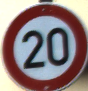20 km speed: (1, 1, 88, 90)
